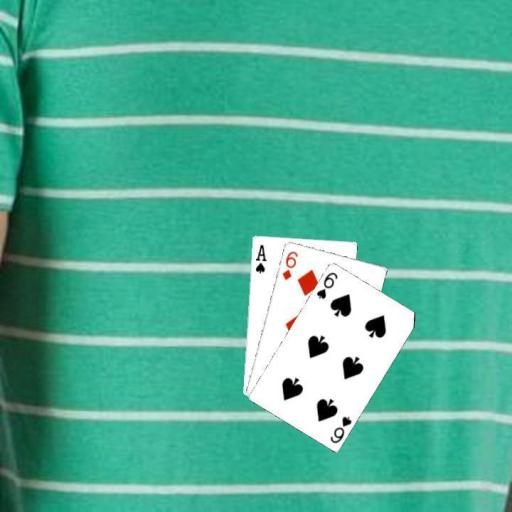card-corner: (327, 412, 354, 444), (314, 269, 339, 300), (279, 248, 299, 282), (252, 241, 268, 275)
